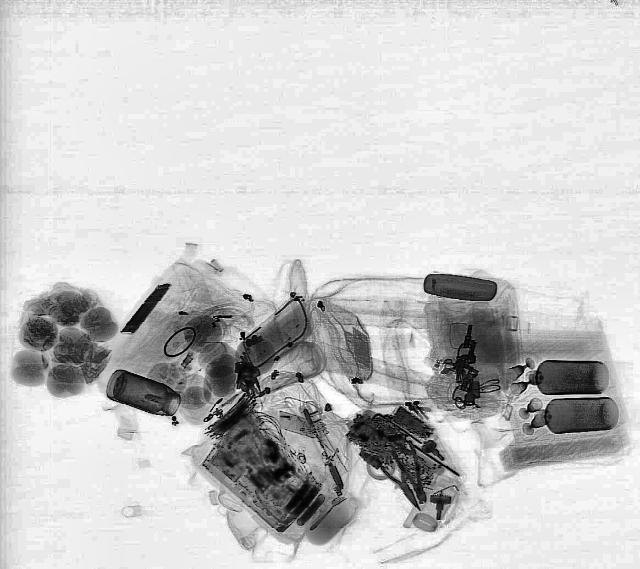Pliers: (375, 452, 433, 516), (387, 440, 437, 506)
